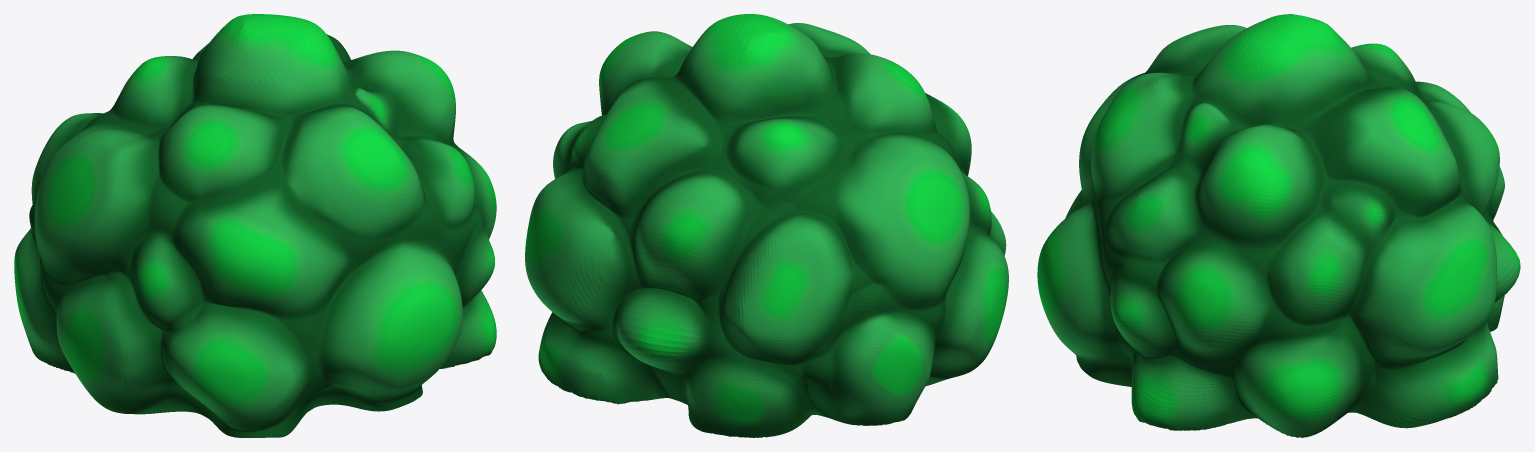
The model's file is Bush 1 .glb.
The picture shows the model from 3 angles, left to right: view 1: azimuth 30°, elevation 25°; view 2: azimuth 150°, elevation 25°; view 3: azimuth 270°, elevation 25°; orthographic projection. The views are drawn at different scales.
Visible parts, largest first — view 1: Sphere; view 2: Sphere; view 3: Sphere.
Part boxes in pixels (x1,y1,x2,y2): Sphere: (14, 14, 496, 437); Sphere: (525, 14, 1008, 437); Sphere: (1037, 14, 1520, 437).
Size of the model in its own units: 0.3594 by 0.2724 by 0.3568.
